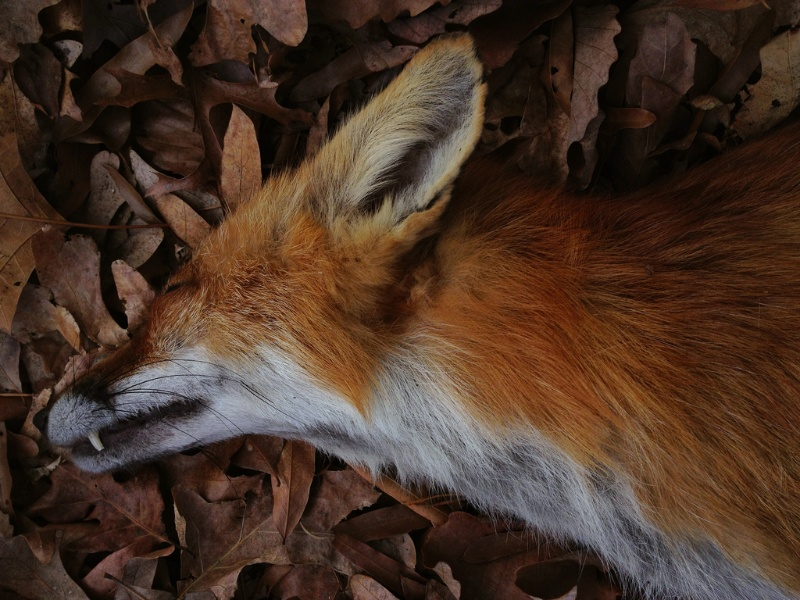fox: (40, 30, 799, 598)
